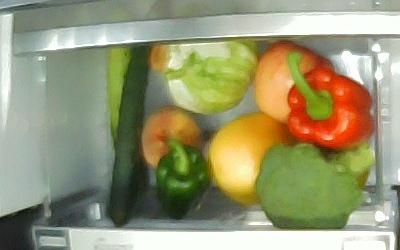apple: (254, 40, 334, 126)
broccoli: (255, 141, 375, 229)
cucumber: (107, 48, 150, 228), (106, 48, 149, 217)
grapefruit: (209, 112, 295, 206)
lettuce: (149, 39, 257, 115)
paprika: (283, 51, 375, 151), (155, 138, 210, 221)
peach: (140, 107, 203, 169)
